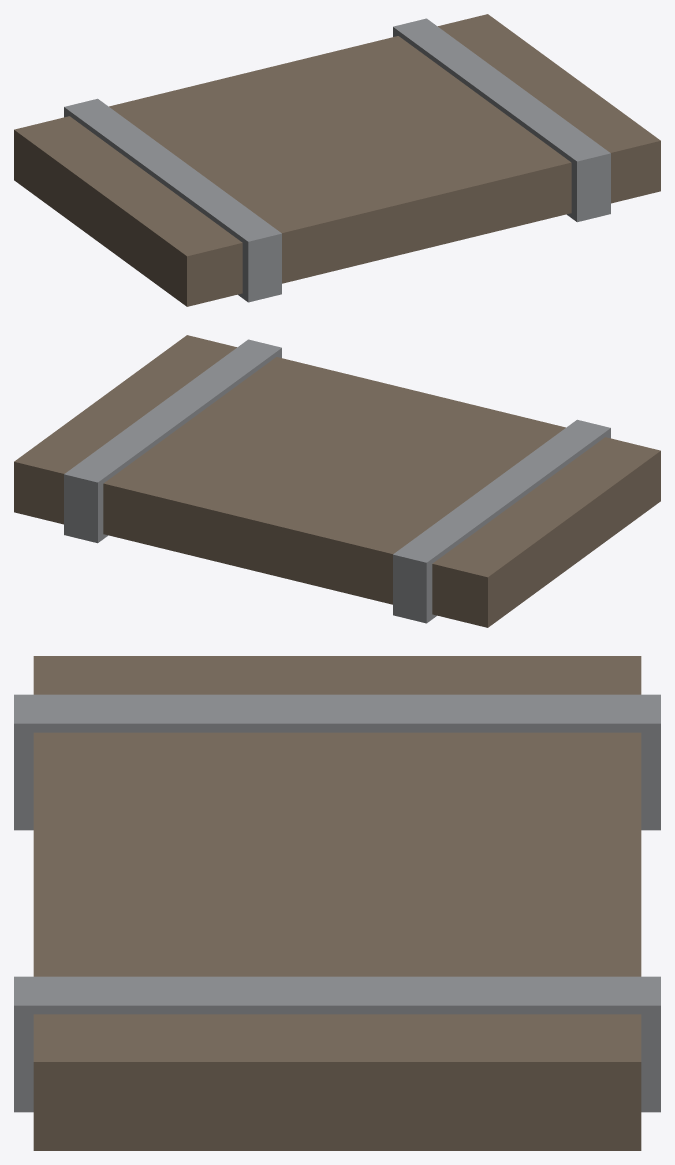
File: ChestLid.fbx
3 views of the same model, one above another, from view 1: azimuth 30°, elevation 25°; view 2: azimuth 150°, elevation 25°; view 3: azimuth 270°, elevation 25° (orthographic). The views are drawn at different scales.
Parts seen in each view (by area): view 1: ChestLid; view 2: ChestLid; view 3: ChestLid.
Part boxes in pixels (x1=…): ChestLid: x1=14, y1=14, x2=660, y2=306; ChestLid: x1=14, y1=335, x2=660, y2=627; ChestLid: x1=14, y1=656, x2=660, y2=1150.
Size of the model in its own units: 98 by 12 by 66.
